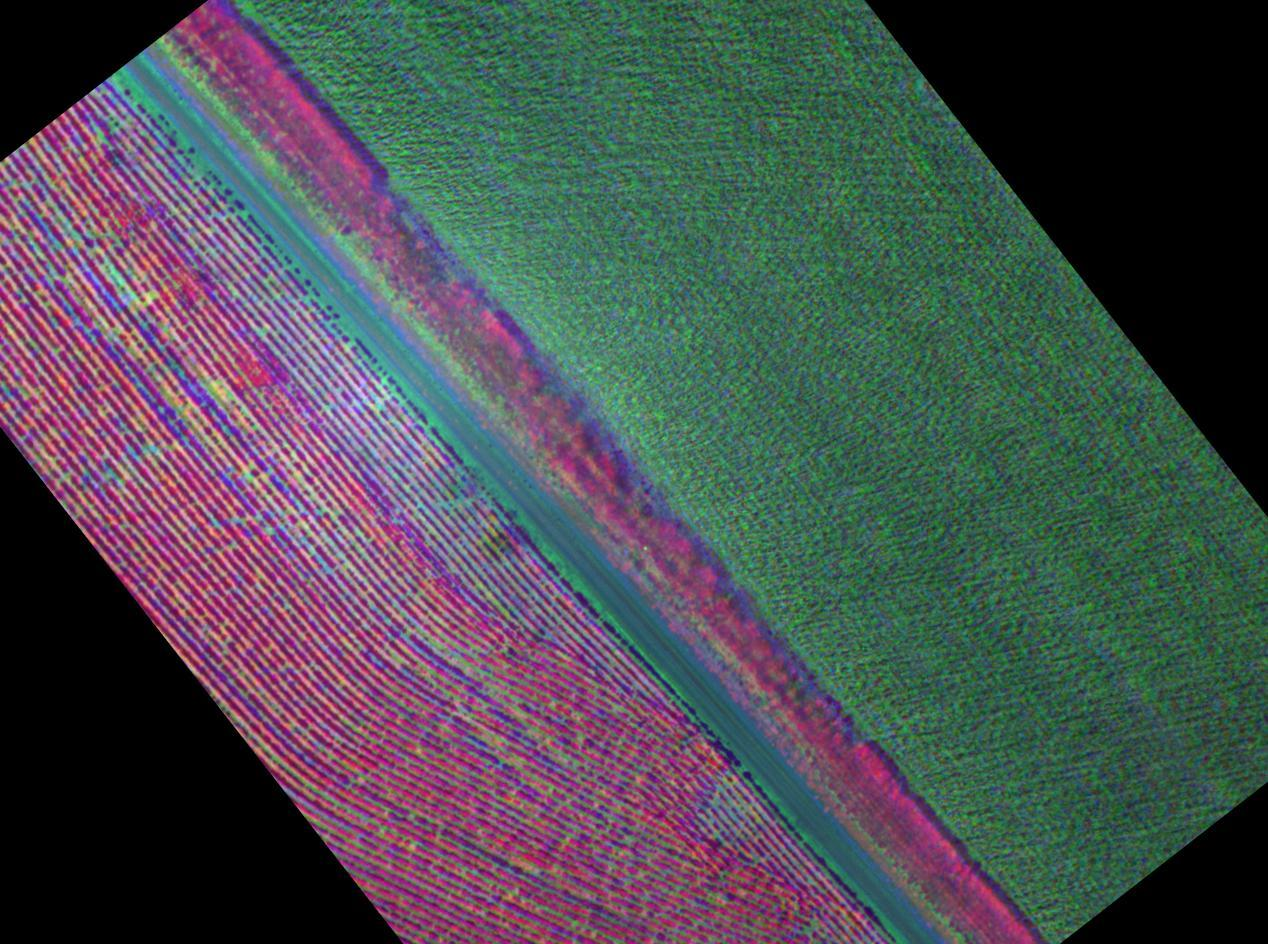dc: (210, 385, 222, 397), (125, 294, 135, 305)
